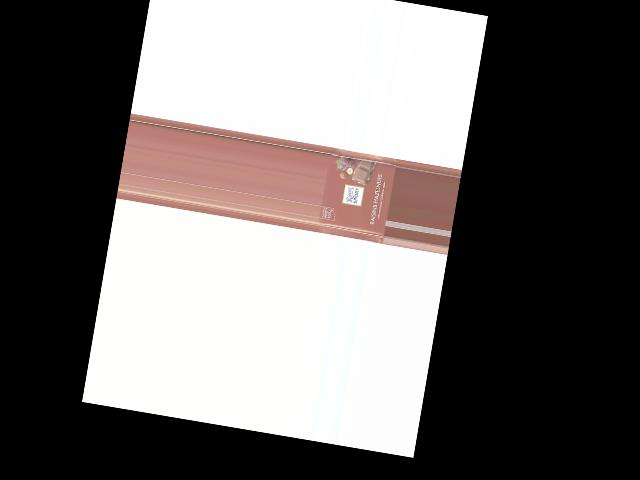chocolate: (316, 145, 398, 244)
